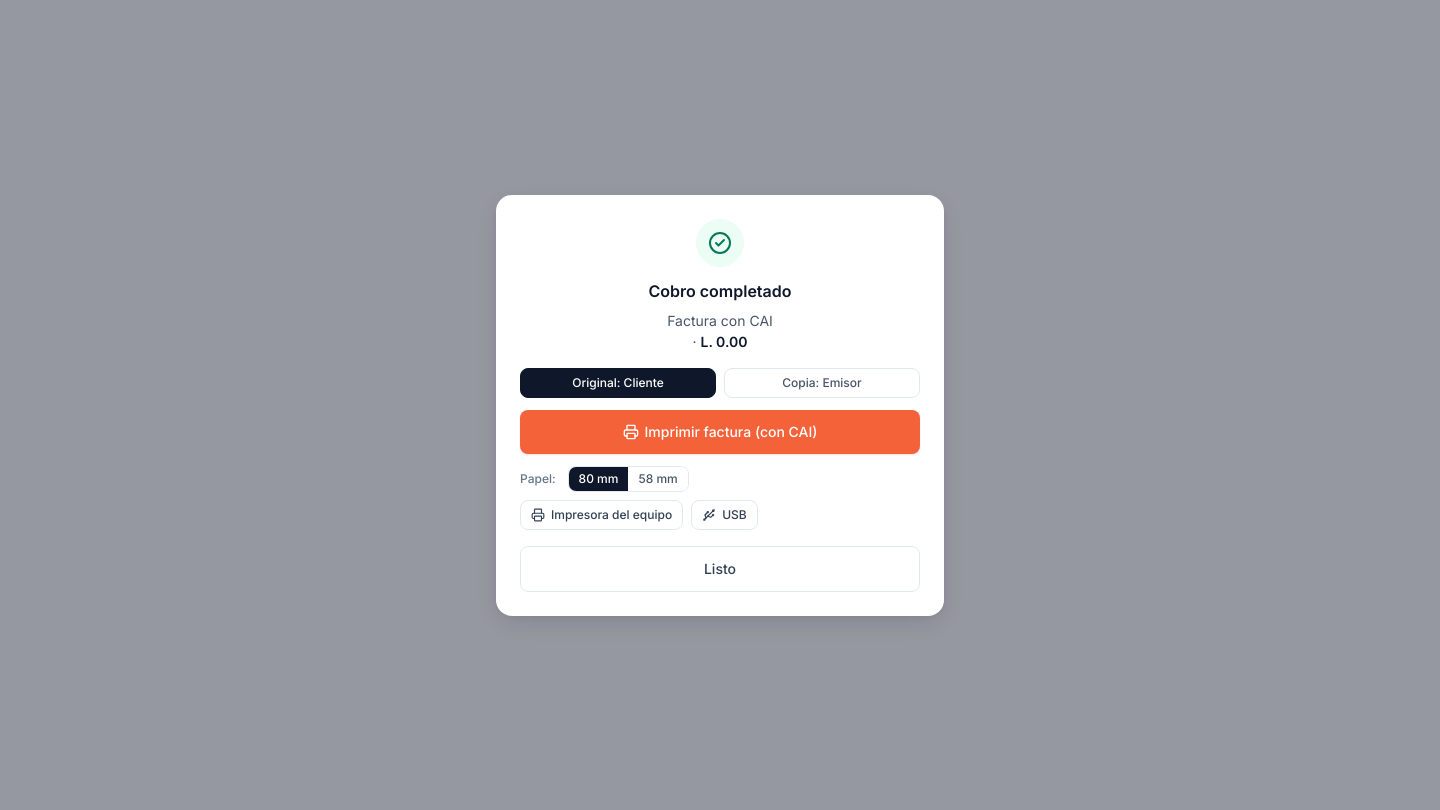
Test: FacturaEmitidaModal › con agente: al presionar el botón se manda a imprimir a la impresora de la sucursal
Click the button "Imprimir factura (con CAI)".
click(720, 432)  # box [520,410,920,454]
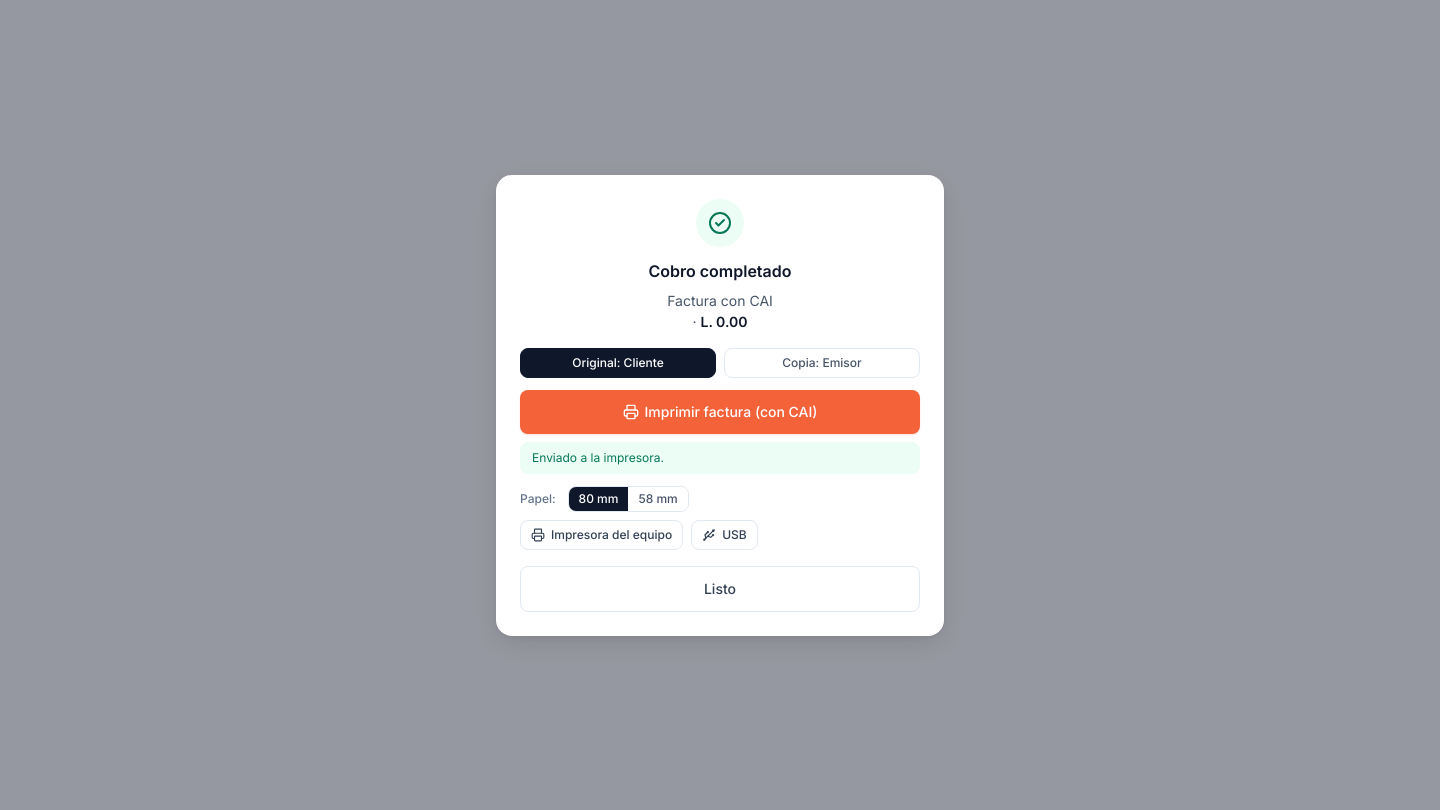
expect the text "Enviado a la impresora." is shown: met, box [520,442,920,474]
